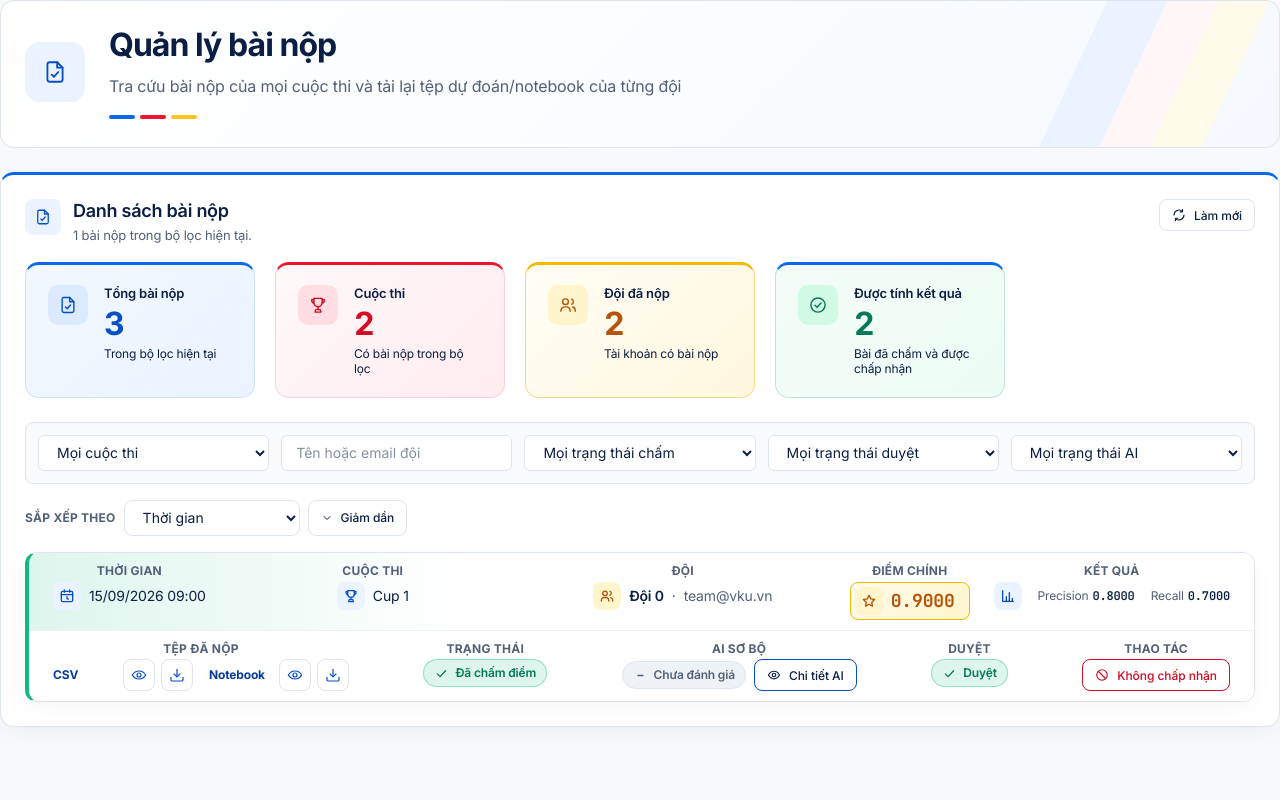
Test: bảng toàn cục chỉ sắp xếp theo bốn trường cố định, mỗi trường có thứ tự mặc định riêng
Check: the text "Đội 0" is shown, box [629,585,664,606]
Check: the button "Giảm dần" is shown, box [308,500,407,536]
Select "Cuộc thi" in the dropdown labelled "Sắp xếp theo" at point(212, 518), box [124,500,300,536]
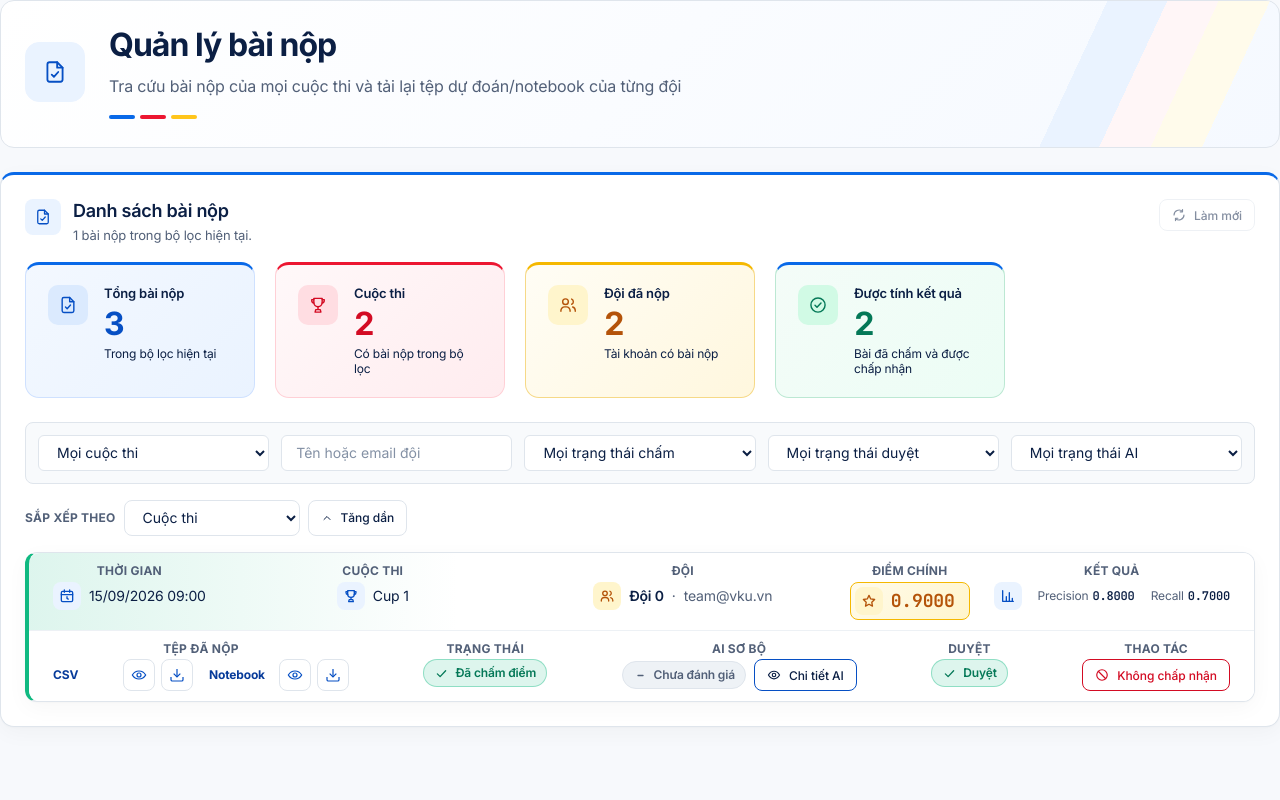
Check: the button "Tăng dần" is shown, box [308,500,407,536]
Select "Đội" in the dropdown labelled "Sắp xếp theo" at point(212, 518), box [124,500,300,536]
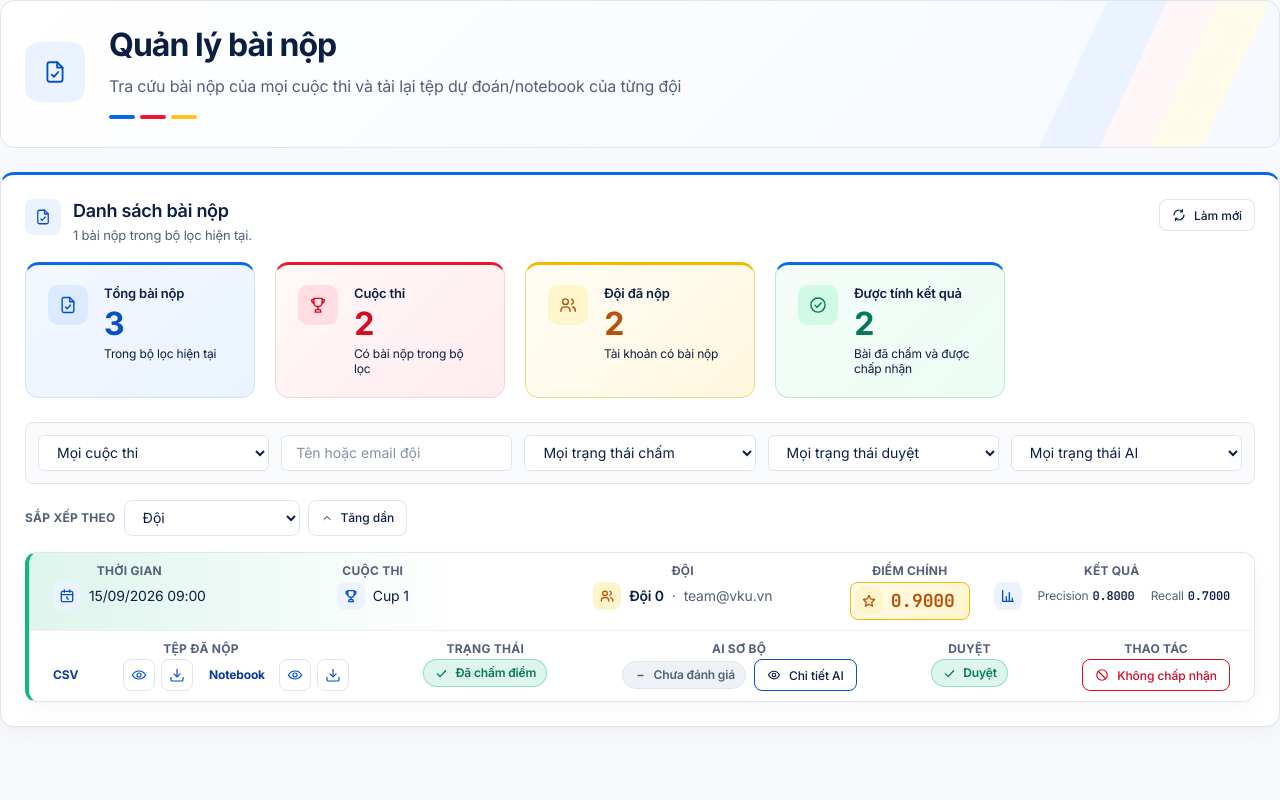
Check: the button "Tăng dần" is shown, box [308,500,407,536]
Select "Điểm chính" in the dropdown labelled "Sắp xếp theo" at point(212, 518), box [124,500,300,536]
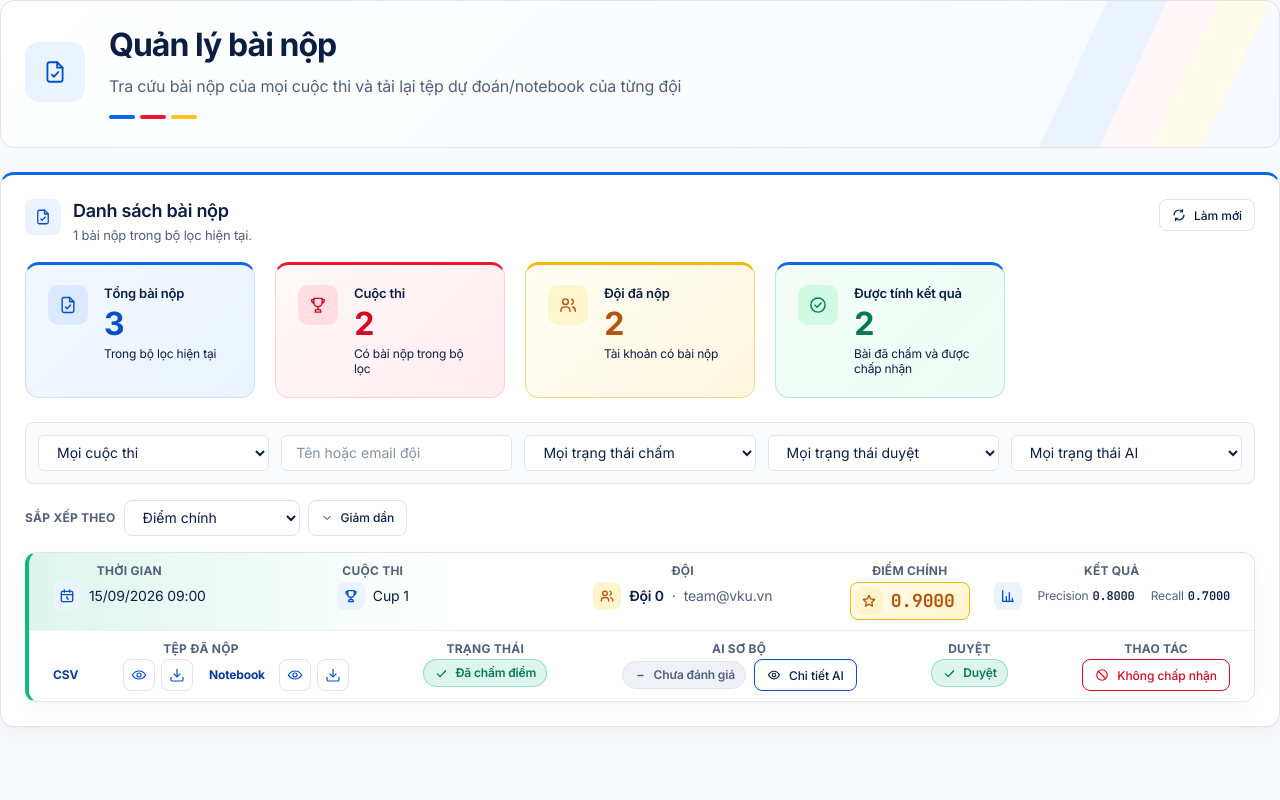
Check: the button "Giảm dần" is shown, box [308,500,407,536]
Select "Thời gian" in the dropdown labelled "Sắp xếp theo" at point(212, 518), box [124,500,300,536]
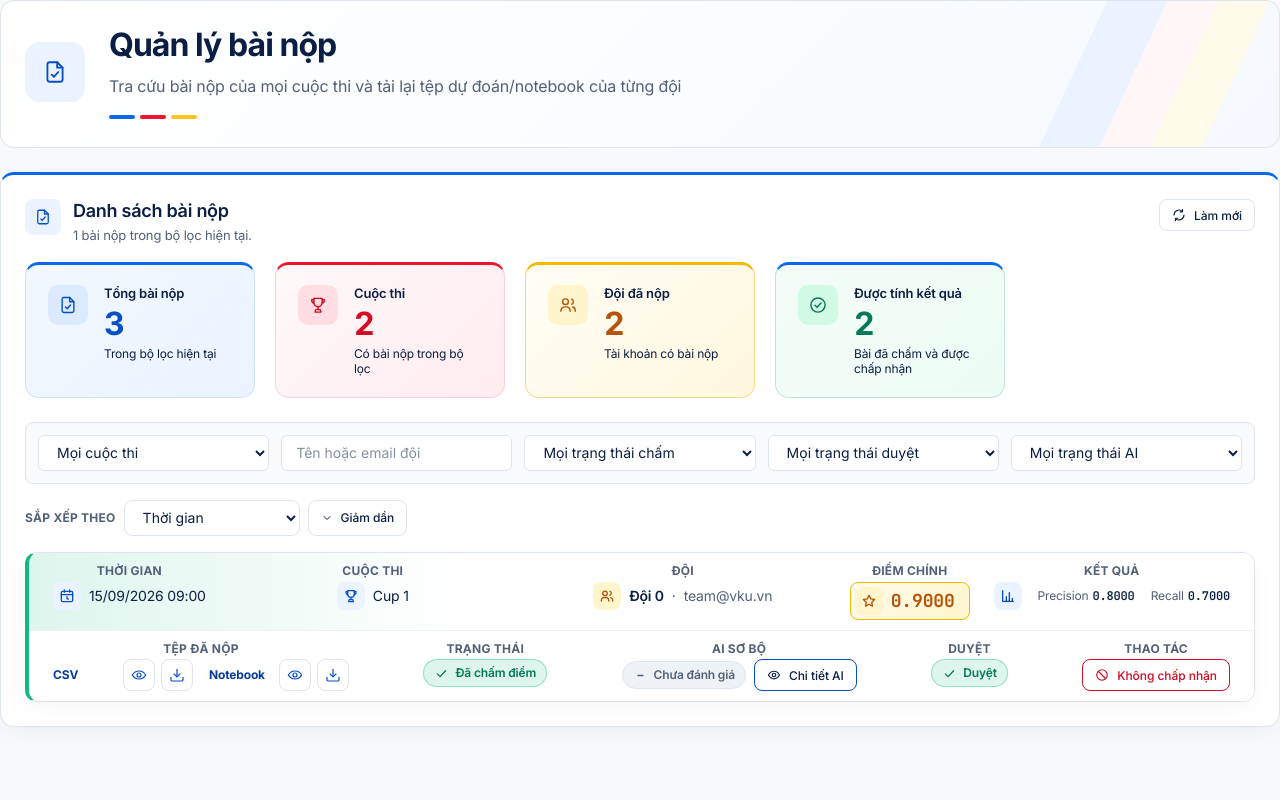
Check: the button "Giảm dần" is shown, box [308,500,407,536]
Select "Đội" in the dropdown labelled "Sắp xếp theo" at point(212, 518), box [124,500,300,536]
Select "Điểm chính" in the dropdown labelled "Sắp xếp theo" at point(212, 518), box [124,500,300,536]
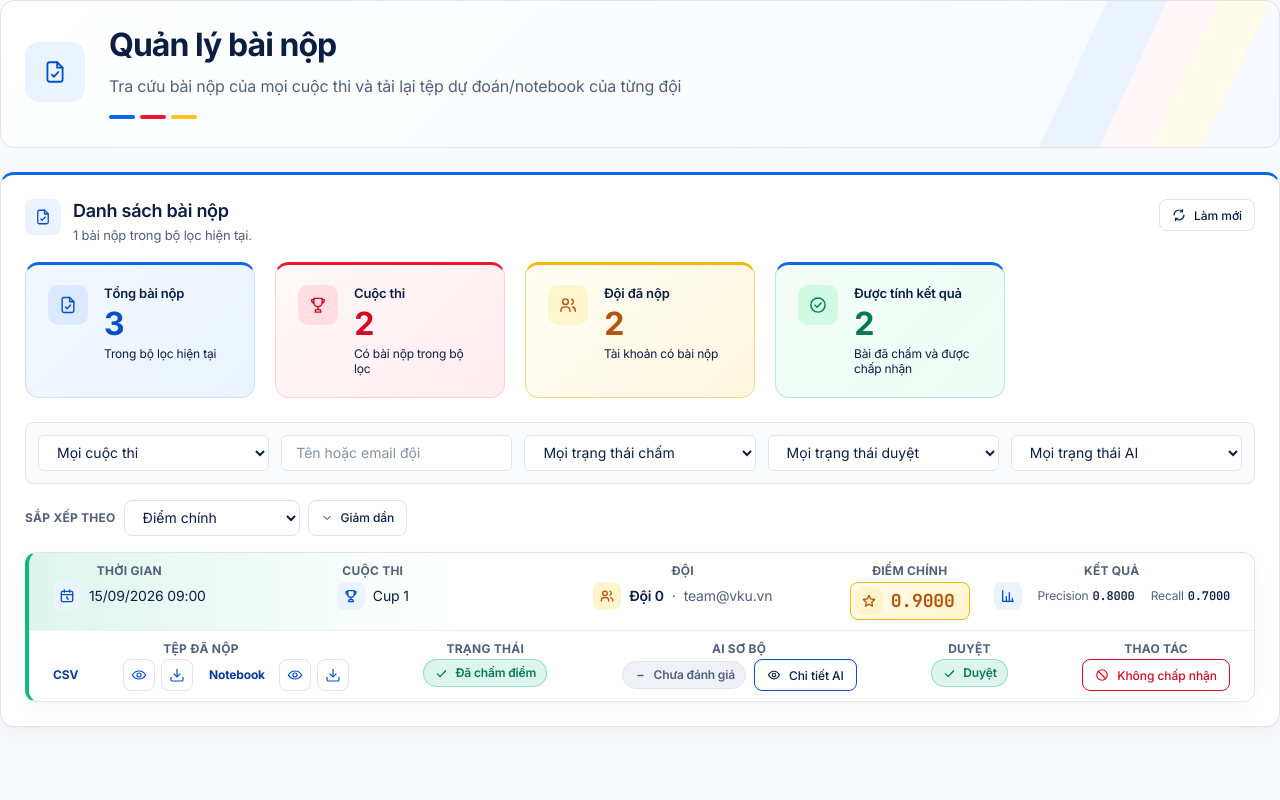
Click the button "Giảm dần" at point(357, 518), box [308,500,407,536]
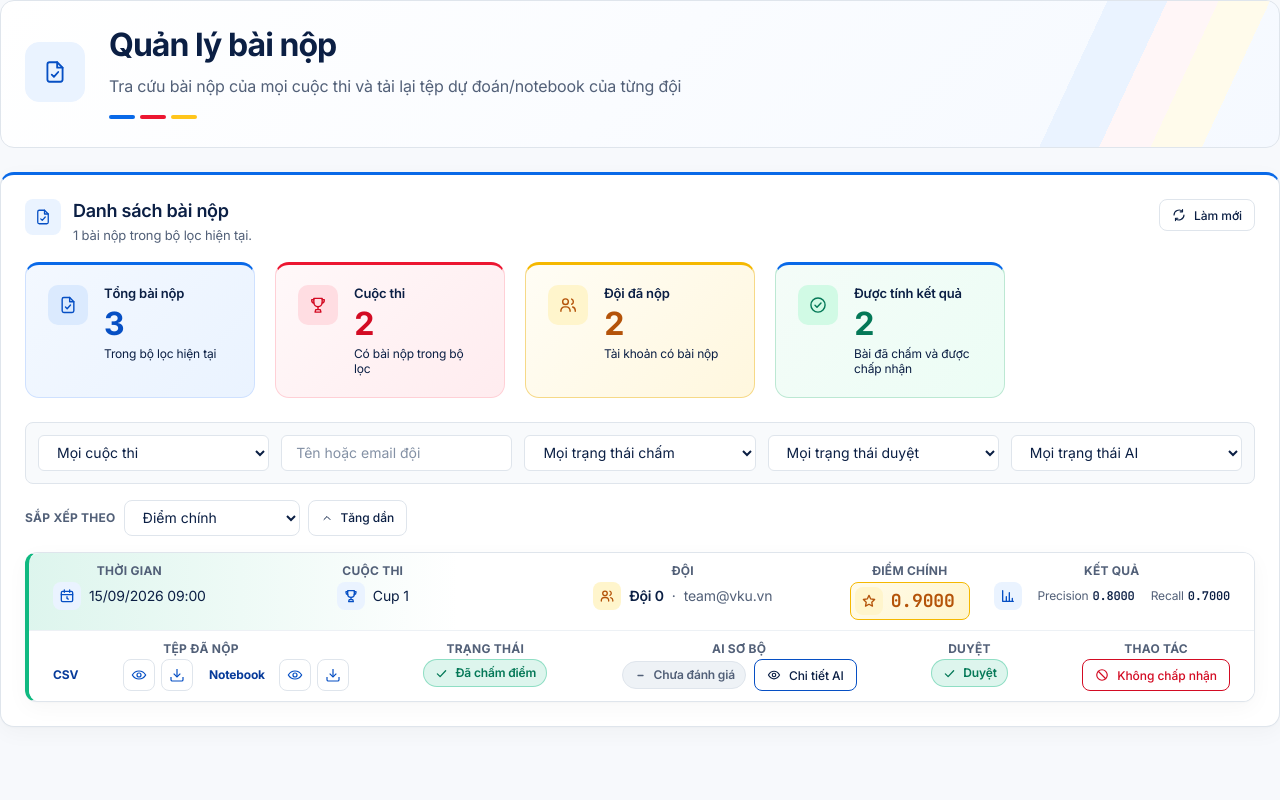
Check: the button "Tăng dần" is shown, box [308,500,407,536]
